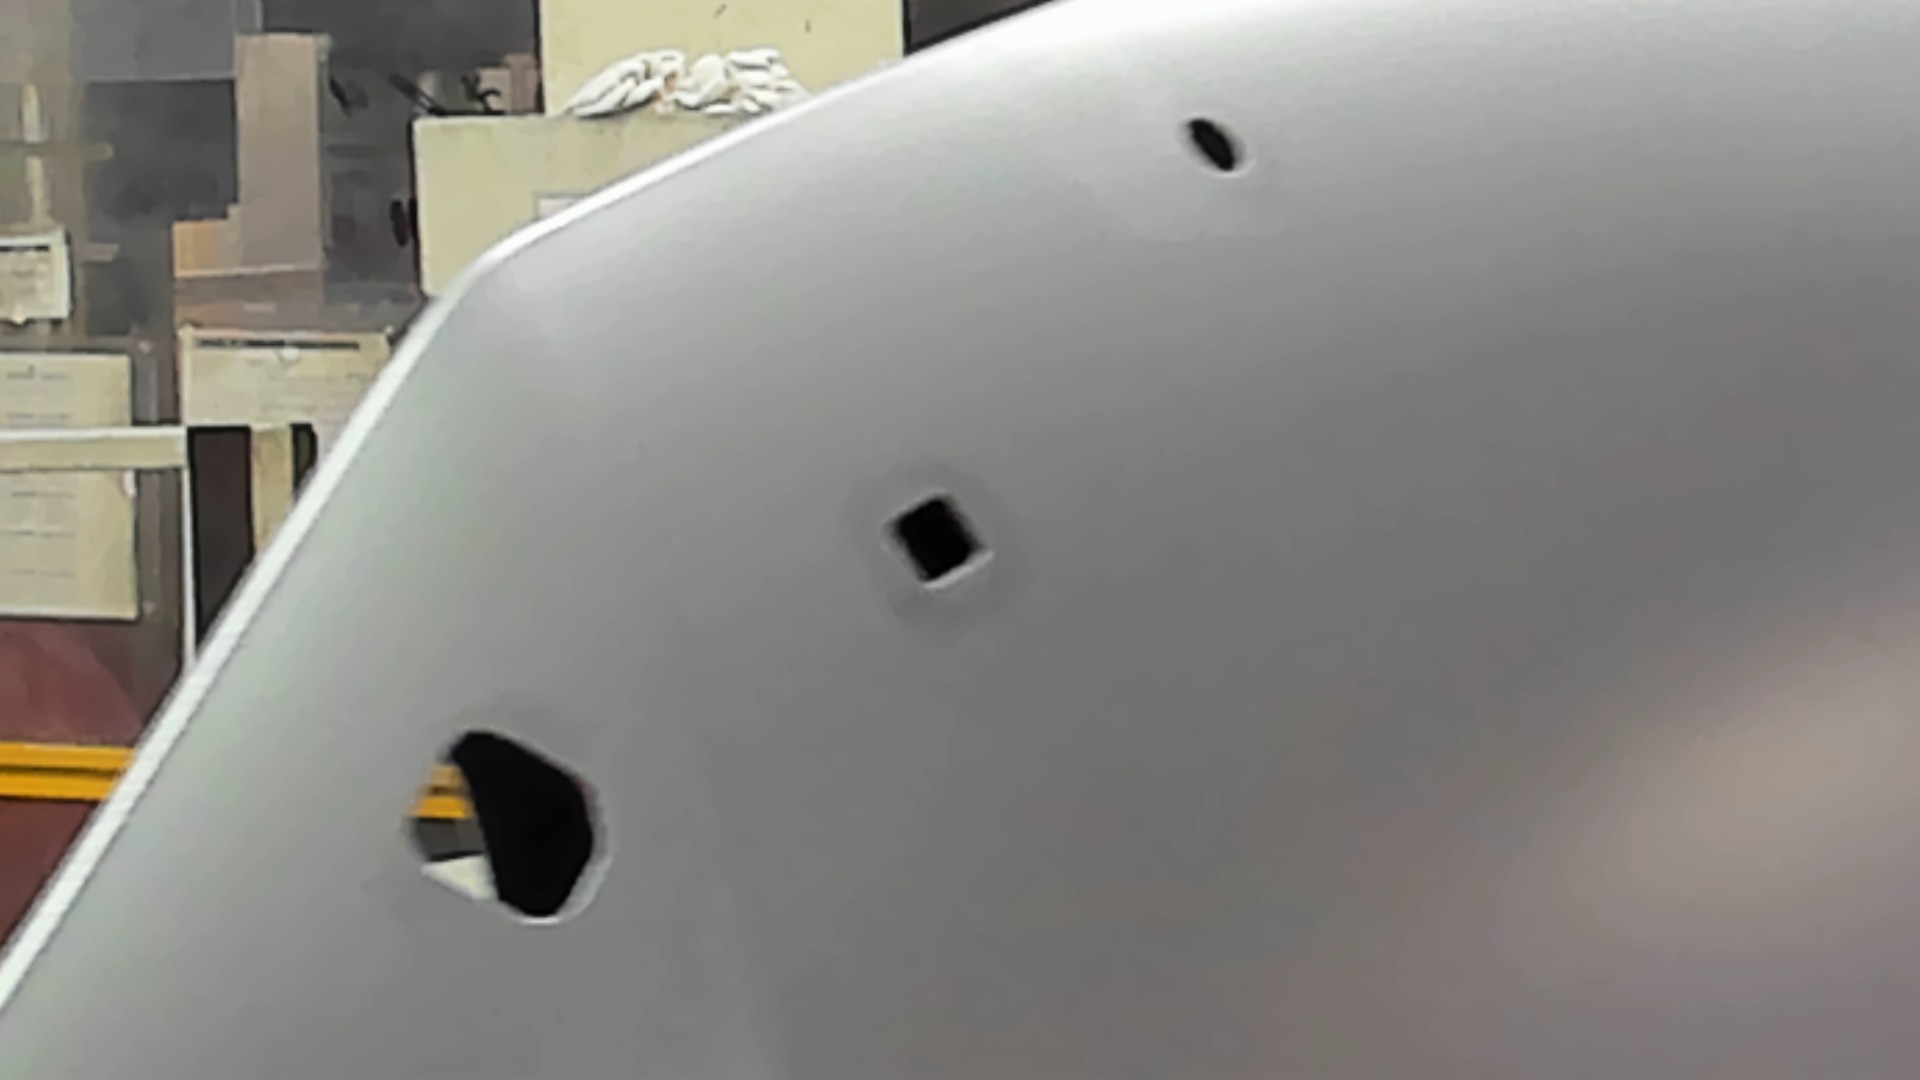chico: (1183, 113, 1251, 177)
grande: (400, 727, 611, 935)
mediano: (882, 487, 996, 596)
